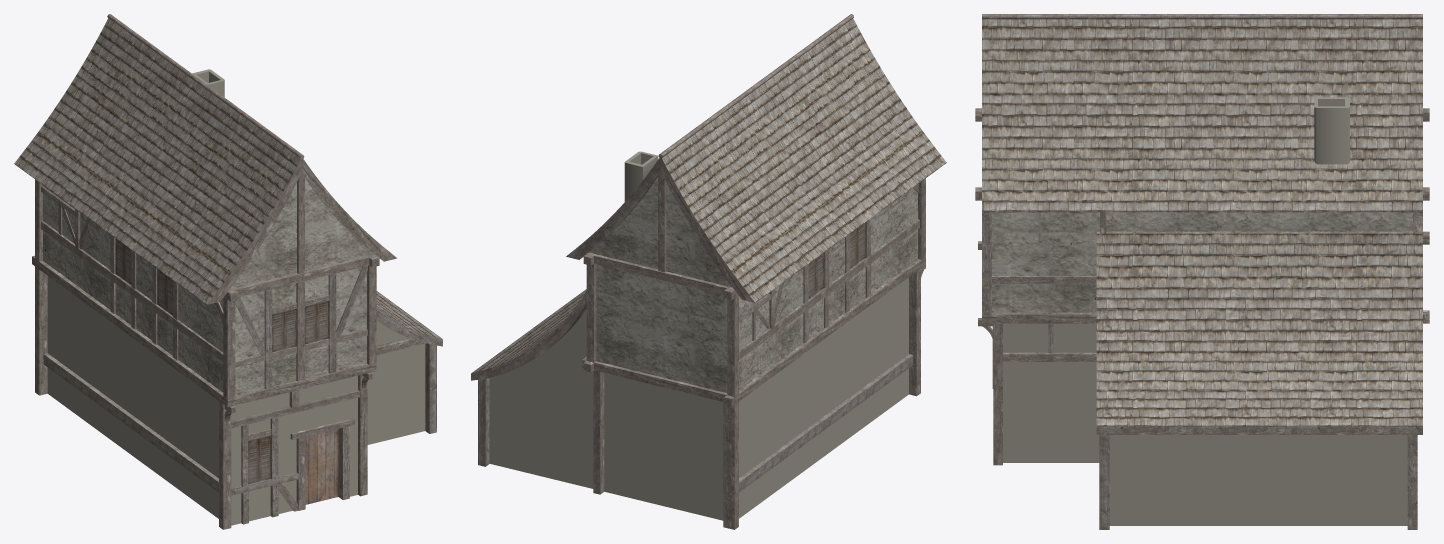
File: House_3.fbx
3 views of the same model, side by side, from view 1: azimuth 30°, elevation 25°; view 2: azimuth 150°, elevation 25°; view 3: azimuth 270°, elevation 25° (orthographic). The views are drawn at different scales.
Visible parts, largest first — view 1: Model; view 2: Model; view 3: Model.
Part boxes in pixels (x1=…): Model: x1=14, y1=14, x2=442, y2=529; Model: x1=471, y1=14, x2=946, y2=529; Model: x1=975, y1=14, x2=1429, y2=529.
Bounding box in the file's own units: 8.44 × 10.14 × 10.14.
